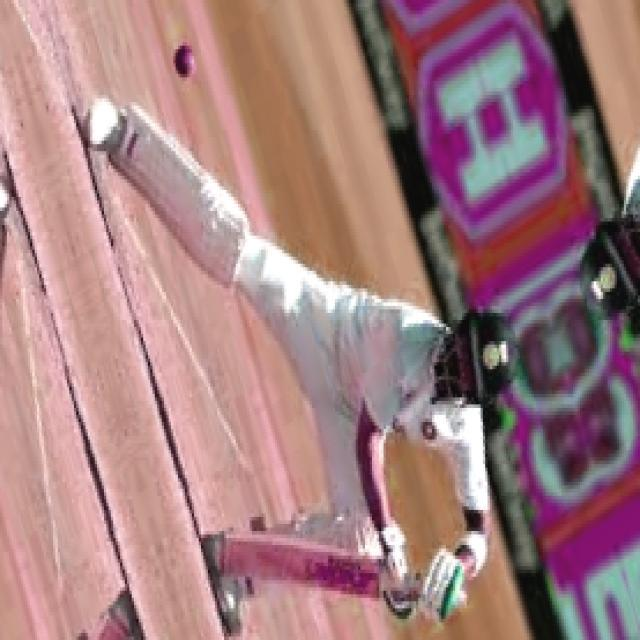bat: (212, 531, 404, 600)
